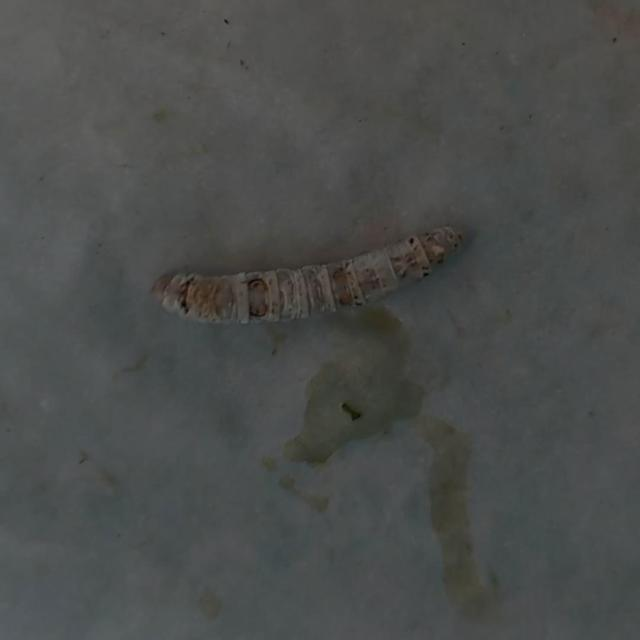Grasserie: (123, 206, 494, 351)
